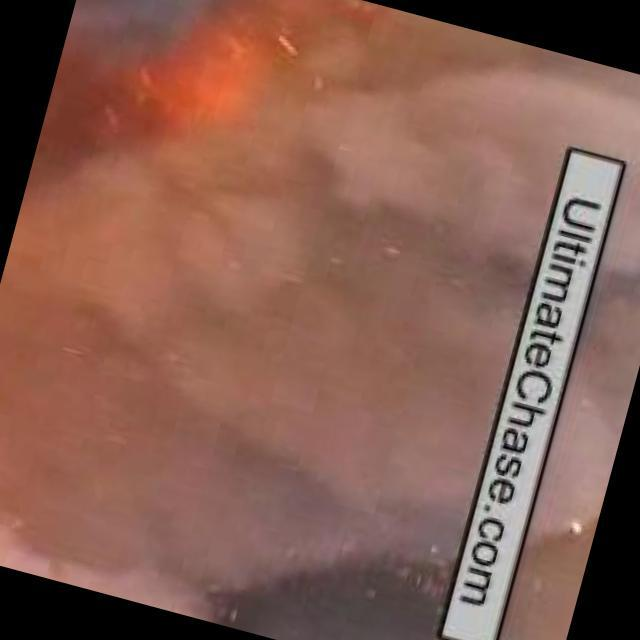Fire: (33, 1, 390, 237)
